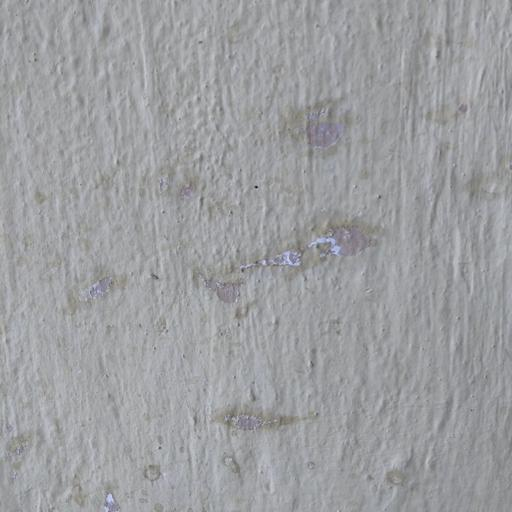stain: (41, 93, 382, 354), (385, 23, 512, 234), (184, 394, 313, 442), (217, 444, 255, 481), (380, 452, 421, 486), (136, 456, 167, 481)
